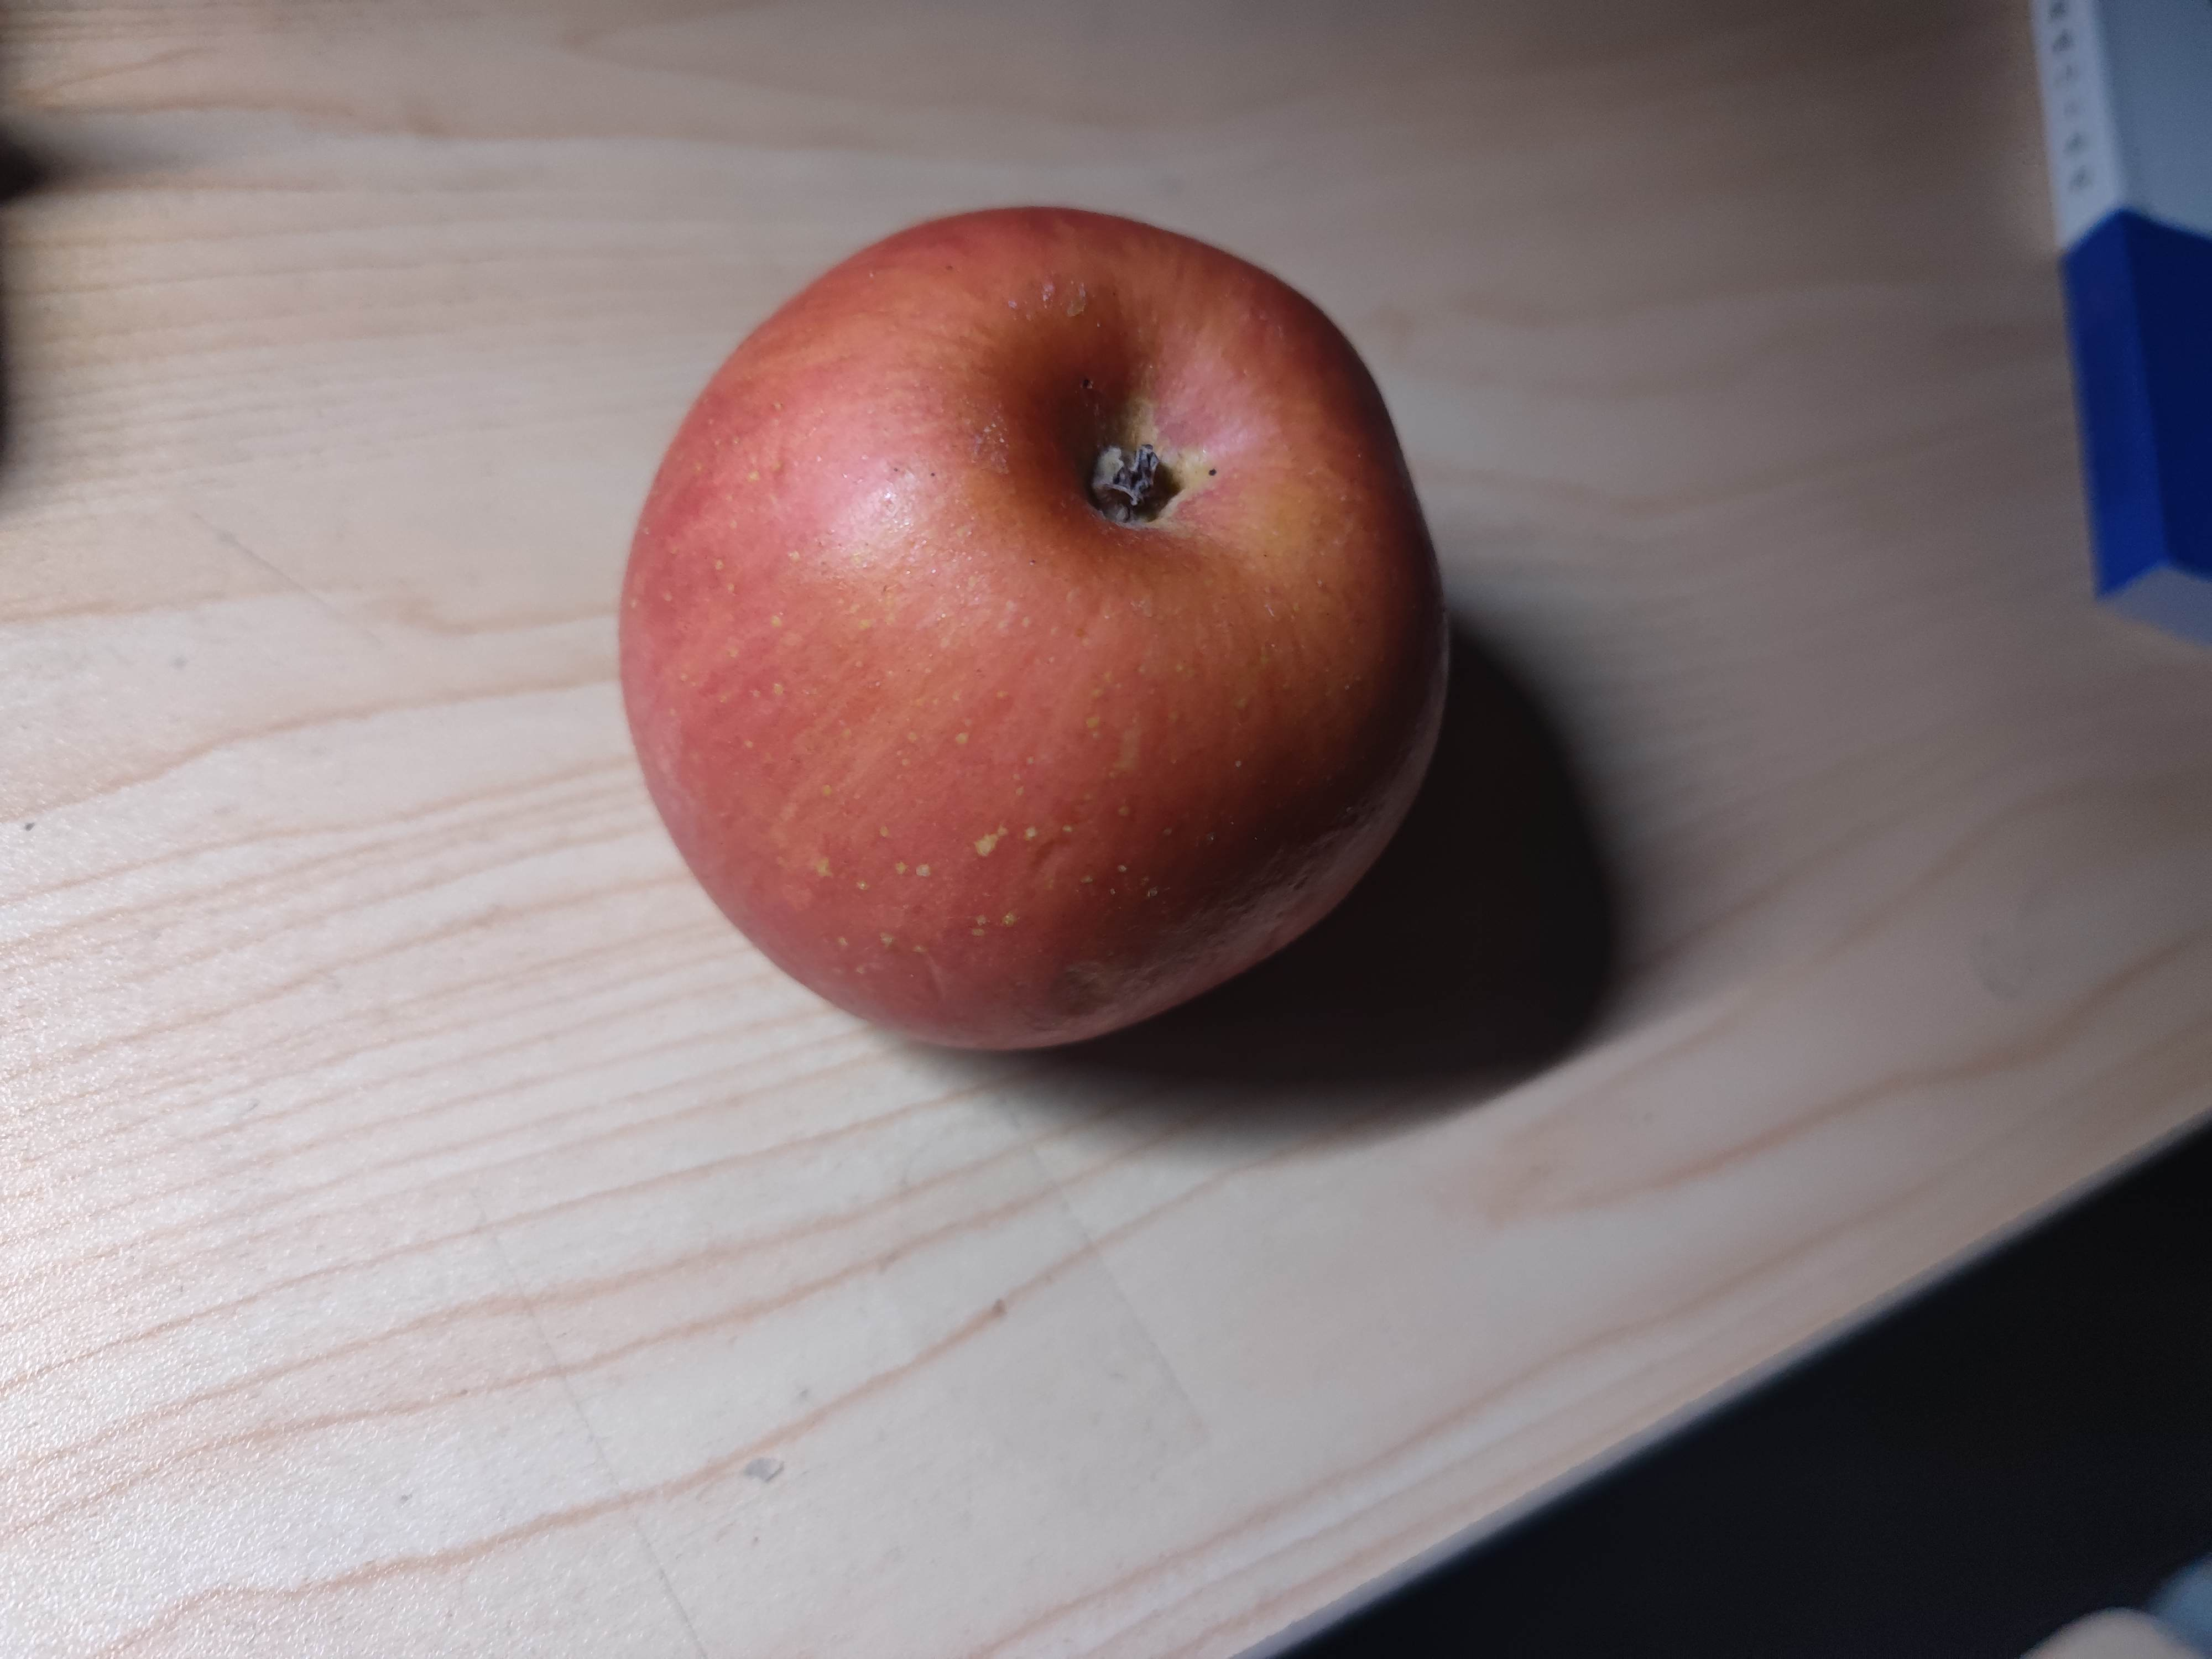apple: (618, 202, 1461, 1061)
